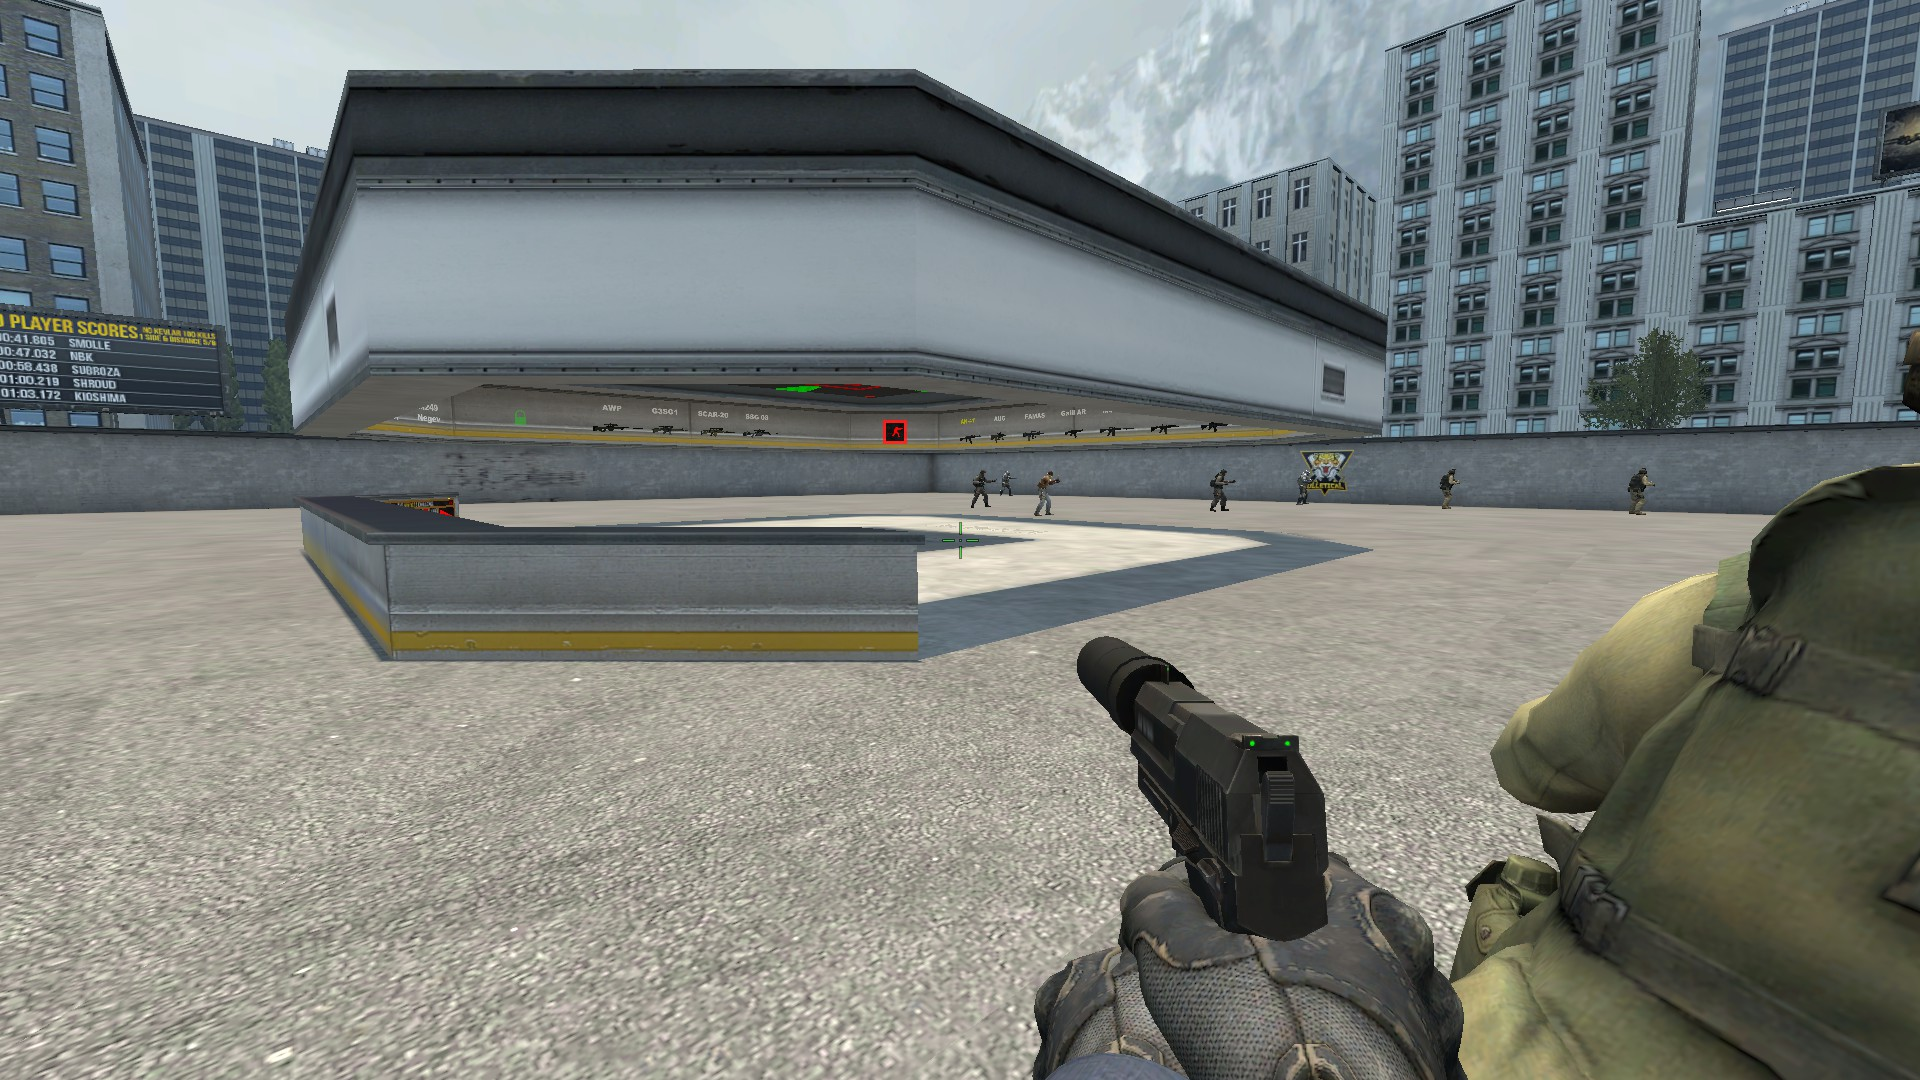ct: (1400, 324, 1919, 1080)
